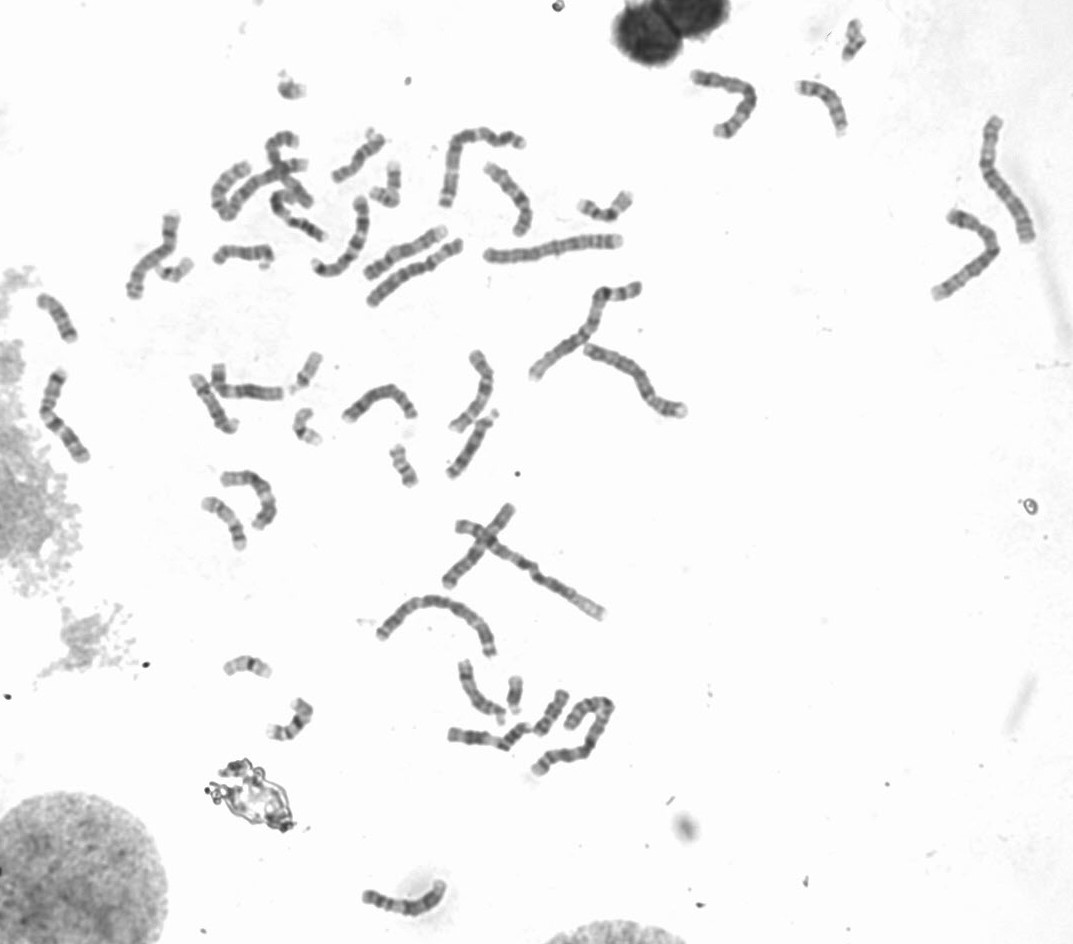chromosomes: (452, 511, 613, 626), (527, 274, 649, 385), (971, 97, 1045, 248), (579, 341, 699, 427), (923, 193, 1012, 307), (374, 590, 503, 665), (436, 121, 536, 216), (356, 235, 471, 311), (439, 495, 519, 601), (529, 692, 622, 781), (203, 151, 311, 224), (118, 212, 187, 307), (307, 192, 379, 283), (39, 366, 99, 475), (690, 64, 764, 147), (257, 127, 321, 214), (479, 233, 637, 268), (350, 873, 462, 922), (447, 343, 503, 436), (479, 156, 538, 243), (359, 223, 451, 278), (340, 370, 423, 426), (444, 407, 504, 484), (437, 718, 539, 761), (215, 467, 282, 532), (324, 128, 393, 190), (799, 72, 854, 149), (271, 186, 331, 253), (205, 357, 287, 405), (185, 370, 241, 439), (454, 656, 508, 718), (194, 495, 249, 555), (34, 291, 82, 350), (575, 183, 641, 225), (266, 699, 320, 749), (365, 159, 414, 214), (287, 350, 332, 405), (215, 648, 278, 685), (835, 16, 878, 67), (212, 240, 279, 272), (534, 686, 572, 741), (292, 407, 330, 459), (268, 66, 312, 106), (387, 446, 423, 494), (148, 258, 203, 288), (506, 665, 536, 719)
